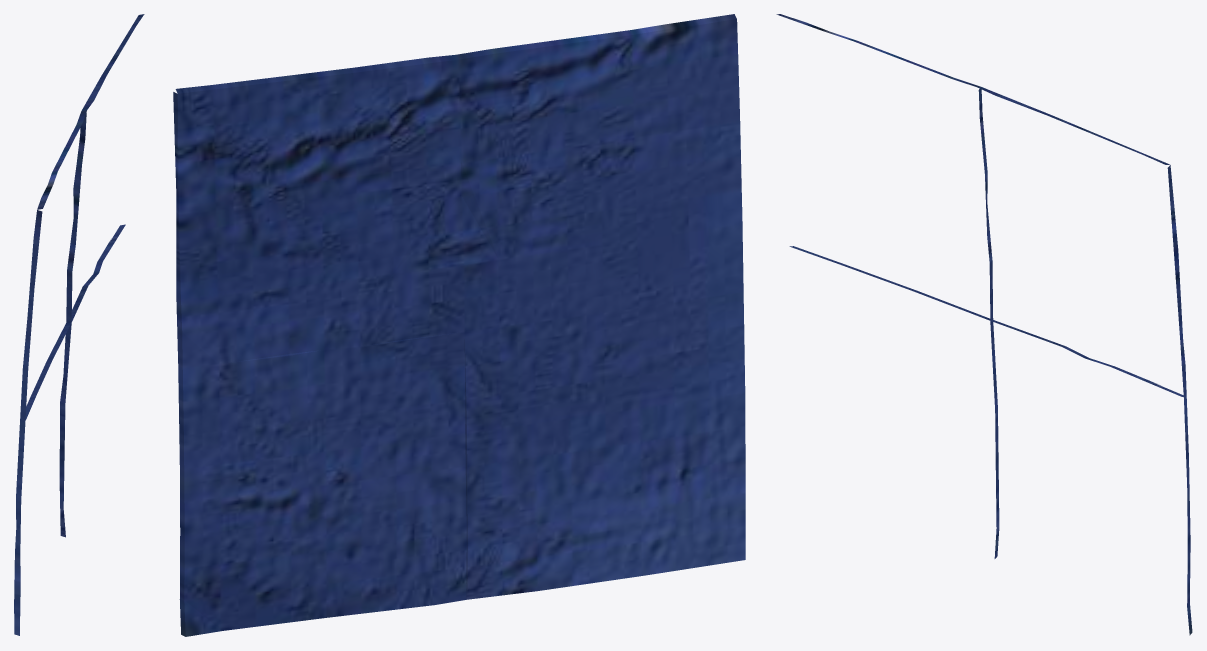
3 views of the same model, side by side, from view 1: azimuth 30°, elevation 25°; view 2: azimuth 150°, elevation 25°; view 3: azimuth 270°, elevation 25° (orthographic). The views are drawn at different scales.
Bounding box in the file's own units: 452266 × 628194 × 494492.
Materials: 1 (1 with a texture image).
